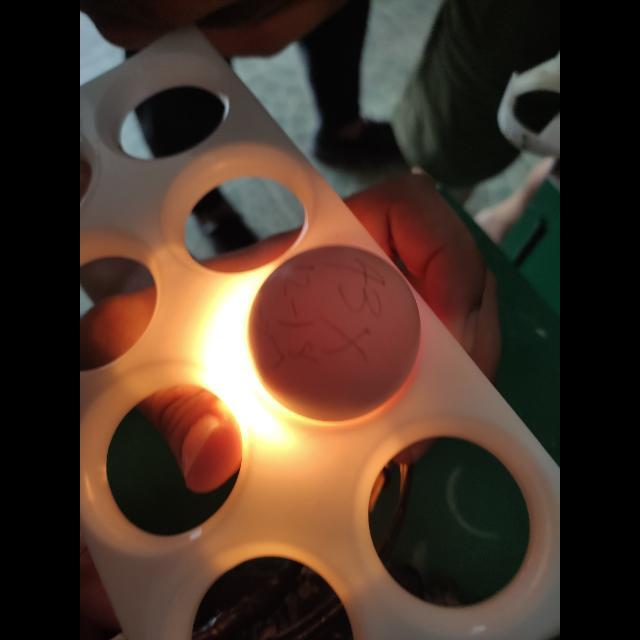Fertile: (242, 245, 420, 412)
